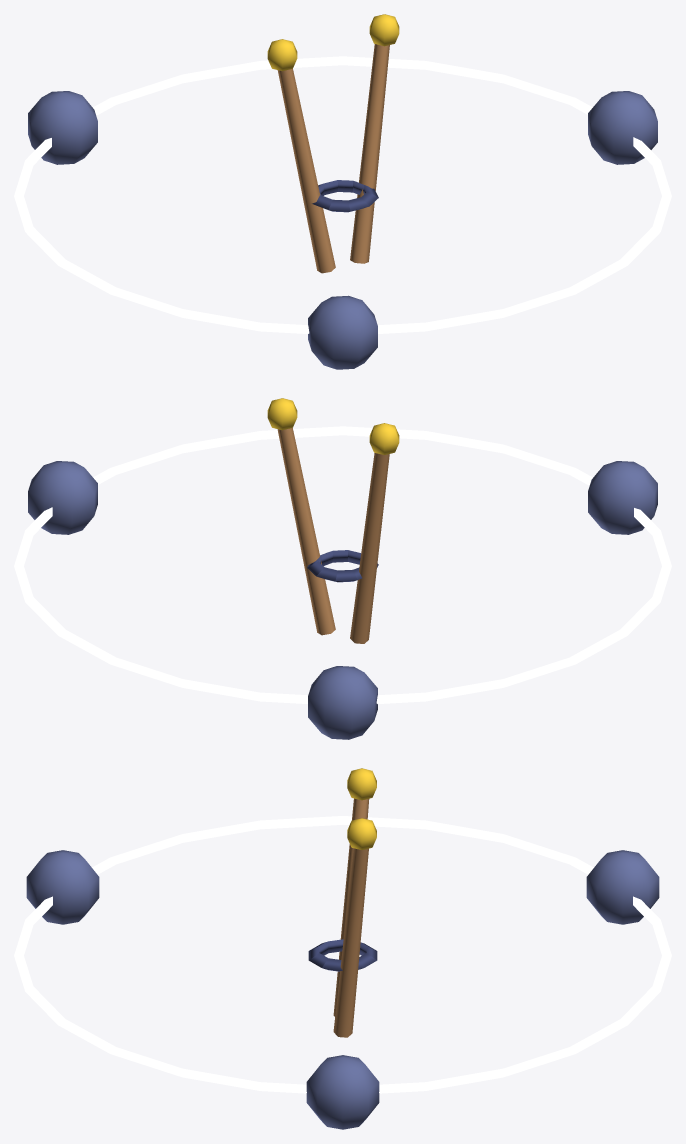
The model's file is raika_p2.glb.
3 renders of one model, top to bottom at view 1: azimuth 30°, elevation 25°; view 2: azimuth 150°, elevation 25°; view 3: azimuth 270°, elevation 25°, orthographic.
Parts seen in each view (by area): view 1: p2_orbs_body, p2_orbs_glow, p2_sticks_body; view 2: p2_orbs_body, p2_orbs_glow, p2_sticks_body; view 3: p2_orbs_glow, p2_orbs_body, p2_sticks_body.
Part boxes in pixels (bbox=[...]): p2_orbs_body: bbox=[28, 91, 657, 369]; p2_orbs_glow: bbox=[14, 56, 671, 333]; p2_sticks_body: bbox=[267, 14, 399, 273]; p2_orbs_body: bbox=[28, 461, 657, 739]; p2_orbs_glow: bbox=[14, 426, 671, 703]; p2_sticks_body: bbox=[267, 398, 399, 643]; p2_orbs_glow: bbox=[14, 816, 671, 1093]; p2_orbs_body: bbox=[26, 850, 659, 1129]; p2_sticks_body: bbox=[308, 768, 377, 1037].
Bounding box in the file's own units: 0.724 × 0.2698 × 0.692.
